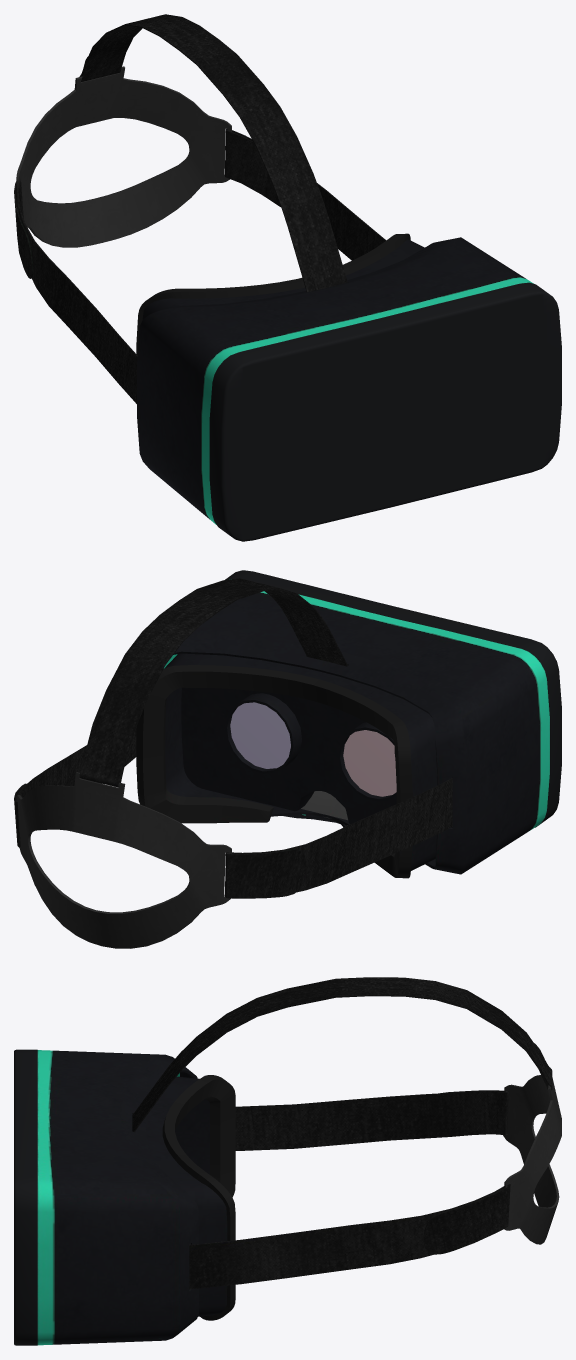
3 renders of one model, top to bottom at view 1: azimuth 30°, elevation 25°; view 2: azimuth 150°, elevation 25°; view 3: azimuth 270°, elevation 25°, orthographic. The views are drawn at different scales.
Parts seen in each view (by area): view 1: Body; view 2: Body; view 3: Body.
Boxes of the visible parts, x1,y1,x2,y2 form: Body: (14,14,561,541); Body: (14,570,561,948); Body: (14,977,561,1345).
Bounding box in the file's own units: 1.31 × 1.18 × 2.
Materials: 1 (1 with a texture image).
